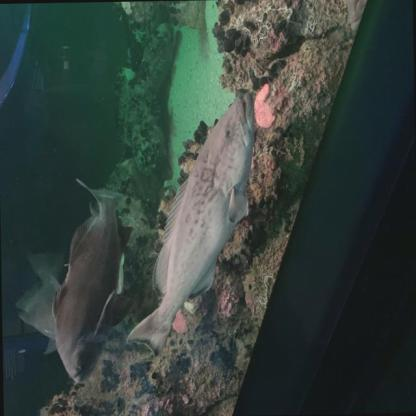fish: (122, 88, 262, 362), (47, 173, 139, 391), (10, 239, 73, 366)
